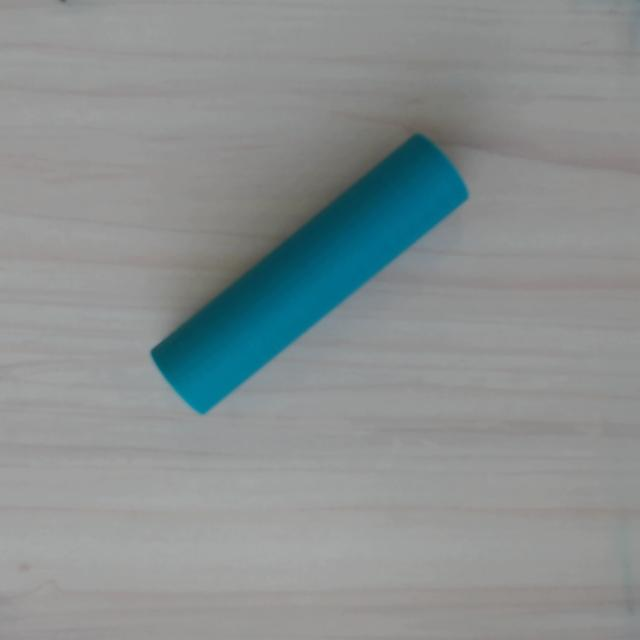Silinder-Hijau-10025: (145, 128, 474, 419)
